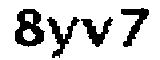7: (123, 2, 151, 52)
8: (10, 6, 45, 47)
v: (81, 13, 116, 51)
y: (45, 12, 81, 60)
